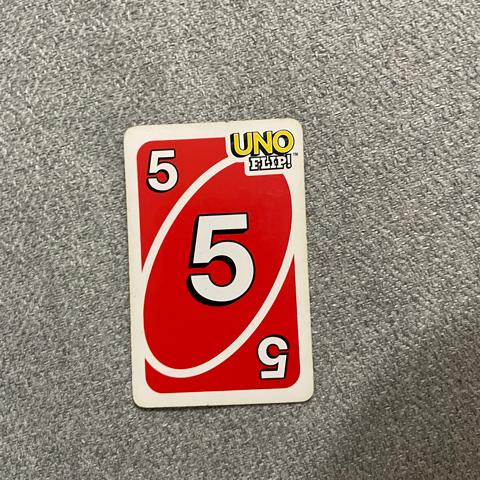9_yellow: (176, 201, 265, 311), (140, 144, 189, 193), (254, 333, 294, 384)
